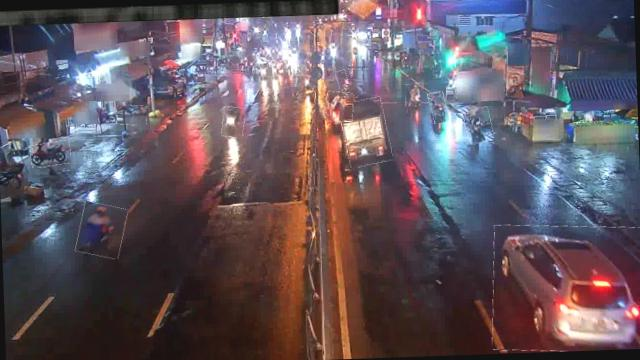Bike: (76, 201, 127, 258), (30, 142, 72, 167), (463, 108, 492, 144), (222, 107, 246, 139), (116, 104, 147, 125), (429, 92, 448, 124), (406, 84, 424, 114), (336, 70, 349, 89)
Car: (490, 222, 640, 353), (326, 92, 354, 123)
Truck: (342, 98, 392, 167)
